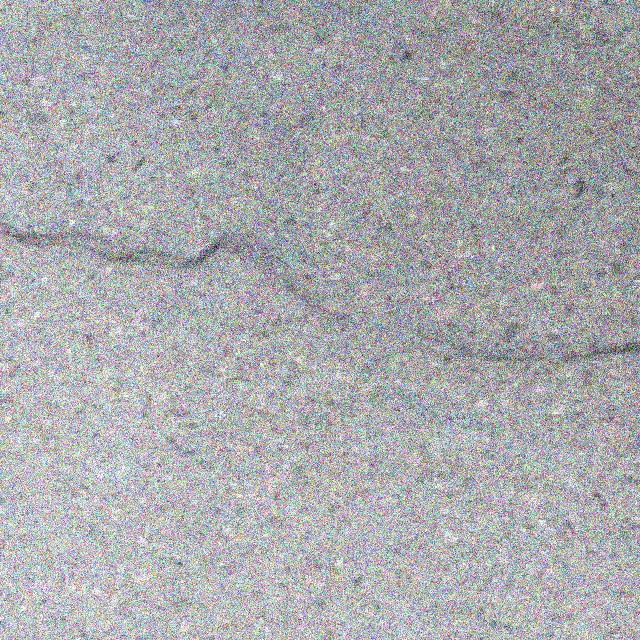SurfaceCrack: (10, 200, 640, 398)
